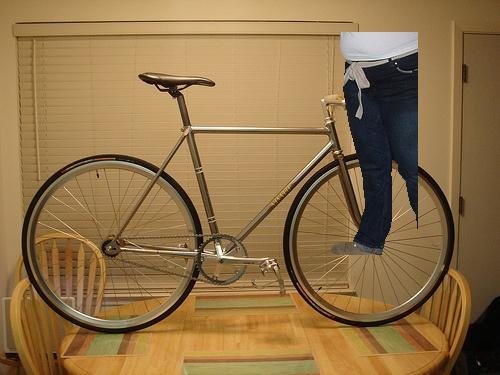tampered: (332, 33, 418, 255)
